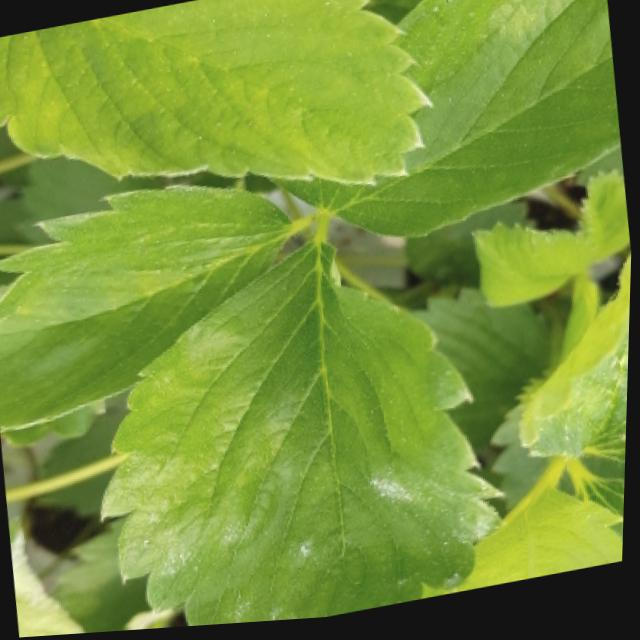Powdery Mildew Leaf: (101, 241, 510, 629), (271, 0, 622, 248), (0, 189, 294, 435), (422, 490, 627, 605), (10, 520, 94, 638)
